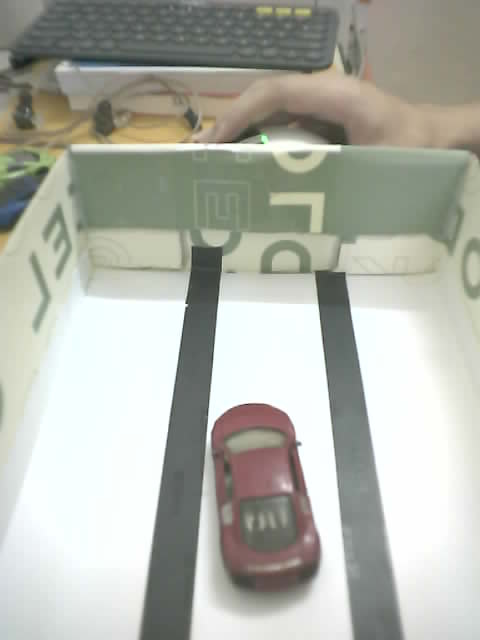vehicle: (204, 403, 322, 613)
